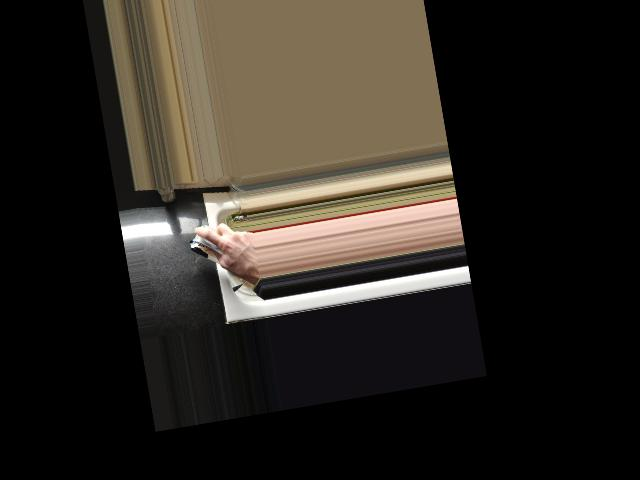cheese: (185, 221, 255, 277)
